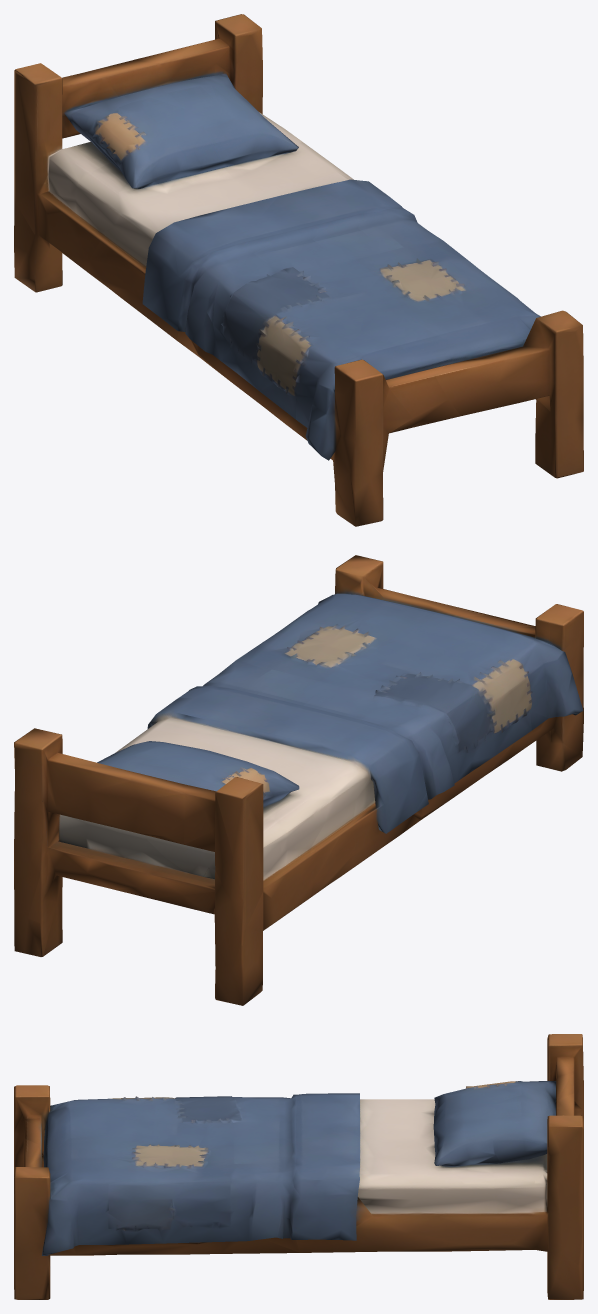
File: servant-bed.glb
3 renders of one model, top to bottom at view 1: azimuth 30°, elevation 25°; view 2: azimuth 150°, elevation 25°; view 3: azimuth 270°, elevation 25°, orthographic. The views are drawn at different scales.
Parts seen in each view (by area): view 1: servant-bed; view 2: servant-bed; view 3: servant-bed.
Boxes of the visible parts, box(x1,y1,x2,y2) form: servant-bed: box(14, 14, 583, 526); servant-bed: box(14, 555, 583, 1005); servant-bed: box(14, 1034, 583, 1299).
Size of the model in its own units: 0.9 by 0.675 by 2.
1 material, 1 textured.
